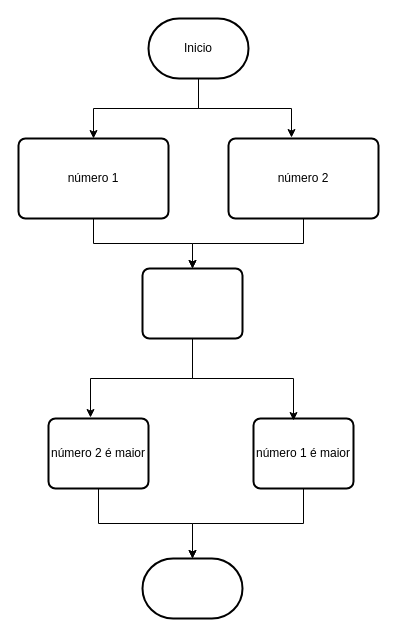
The diagram is 396 pixels wide and 636 high, and some of its shapes have lost their labels. The centre of each missing label's shape, as x and y in pixels:
"Fim" goes at [192,588].
"número maior" goes at [192,303].
